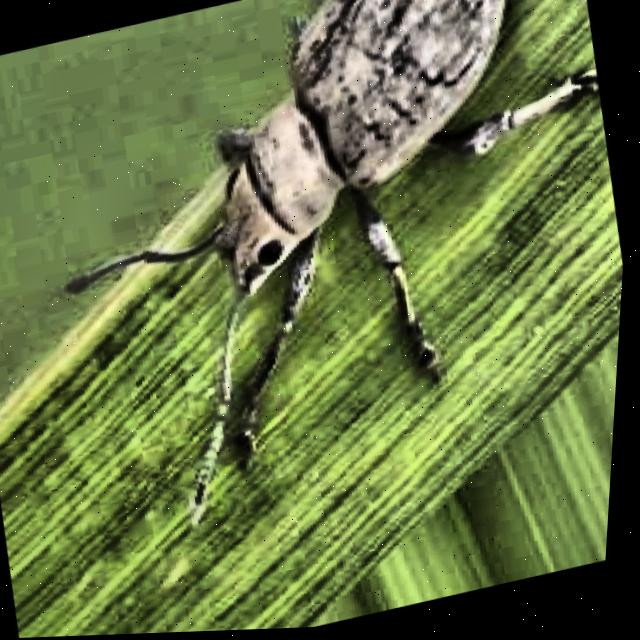Stink bug: (3, 0, 639, 394)
